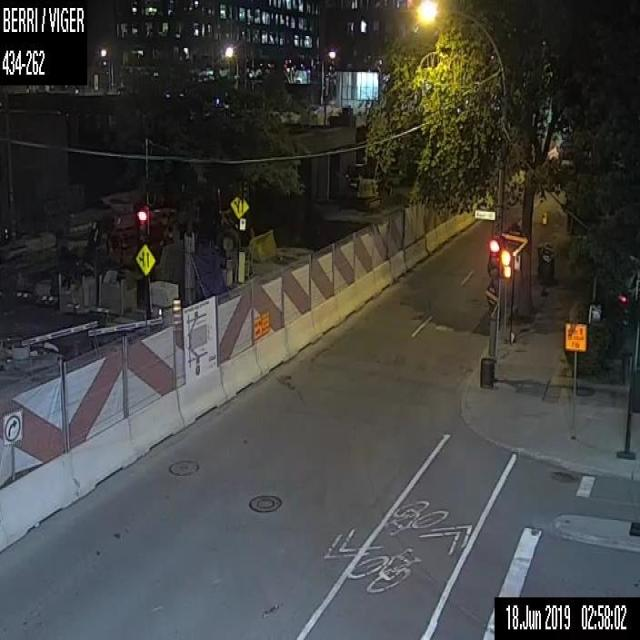construction: (564, 316, 586, 433)
